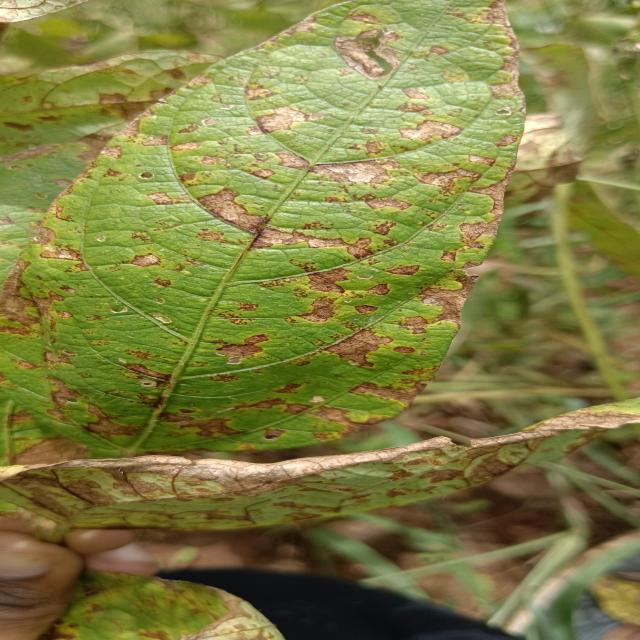Black gram_leaf spot: (0, 0, 640, 542), (0, 402, 640, 540)
